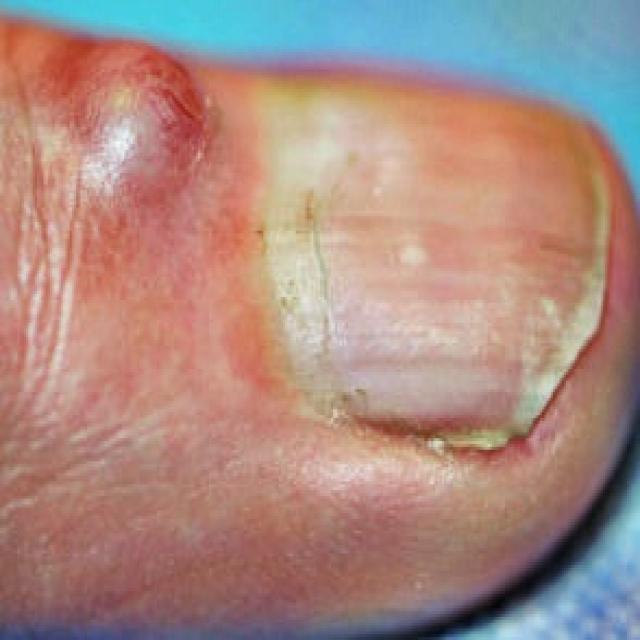Seborrheic-Keratoses-and-other-Benign-Tumors: (30, 25, 234, 245)
